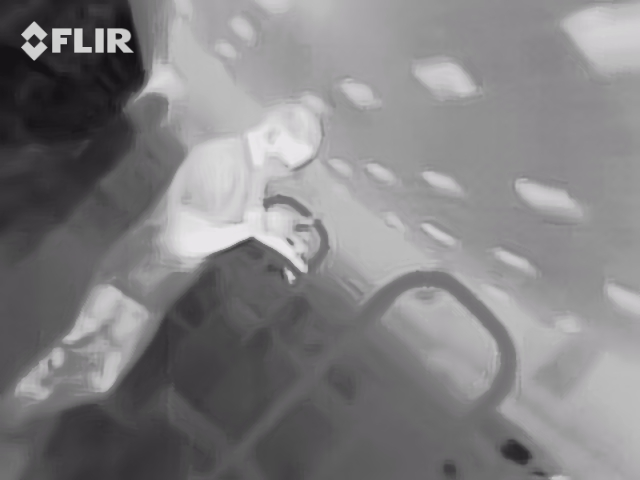head: (261, 102, 321, 182)
